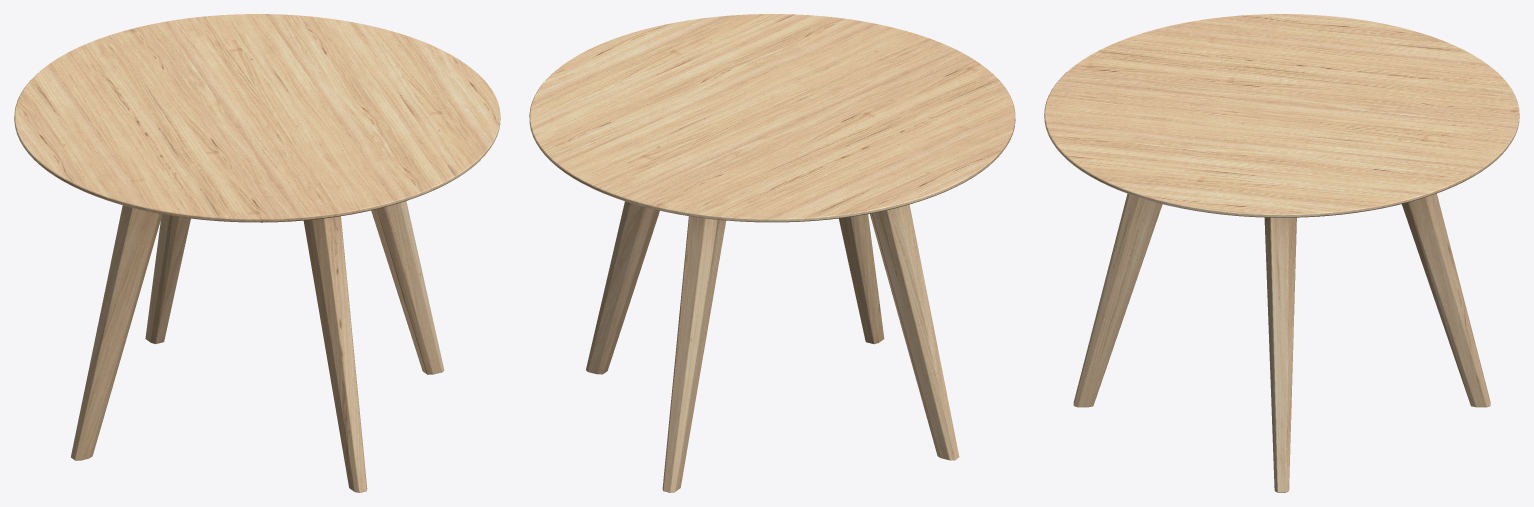
The picture shows the model from 3 angles, left to right: view 1: azimuth 30°, elevation 25°; view 2: azimuth 150°, elevation 25°; view 3: azimuth 270°, elevation 25°; orthographic projection. The views are drawn at different scales.
Parts seen in each view (by area): view 1: OAK5; view 2: OAK5; view 3: OAK5.
Boxes of the visible parts, x1,y1,x2,y2 form: OAK5: (14,14,500,492); OAK5: (529,14,1015,492); OAK5: (1044,14,1519,492).
Size of what is drawn, in the model's own units: 0.4479 by 0.3024 by 0.4479.
Materials: 1 (1 with a texture image).
